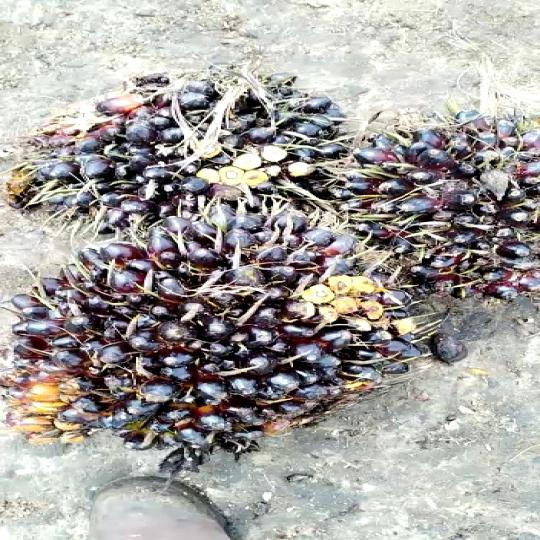mentah: (0, 191, 435, 471), (9, 64, 352, 215), (326, 125, 540, 352)
